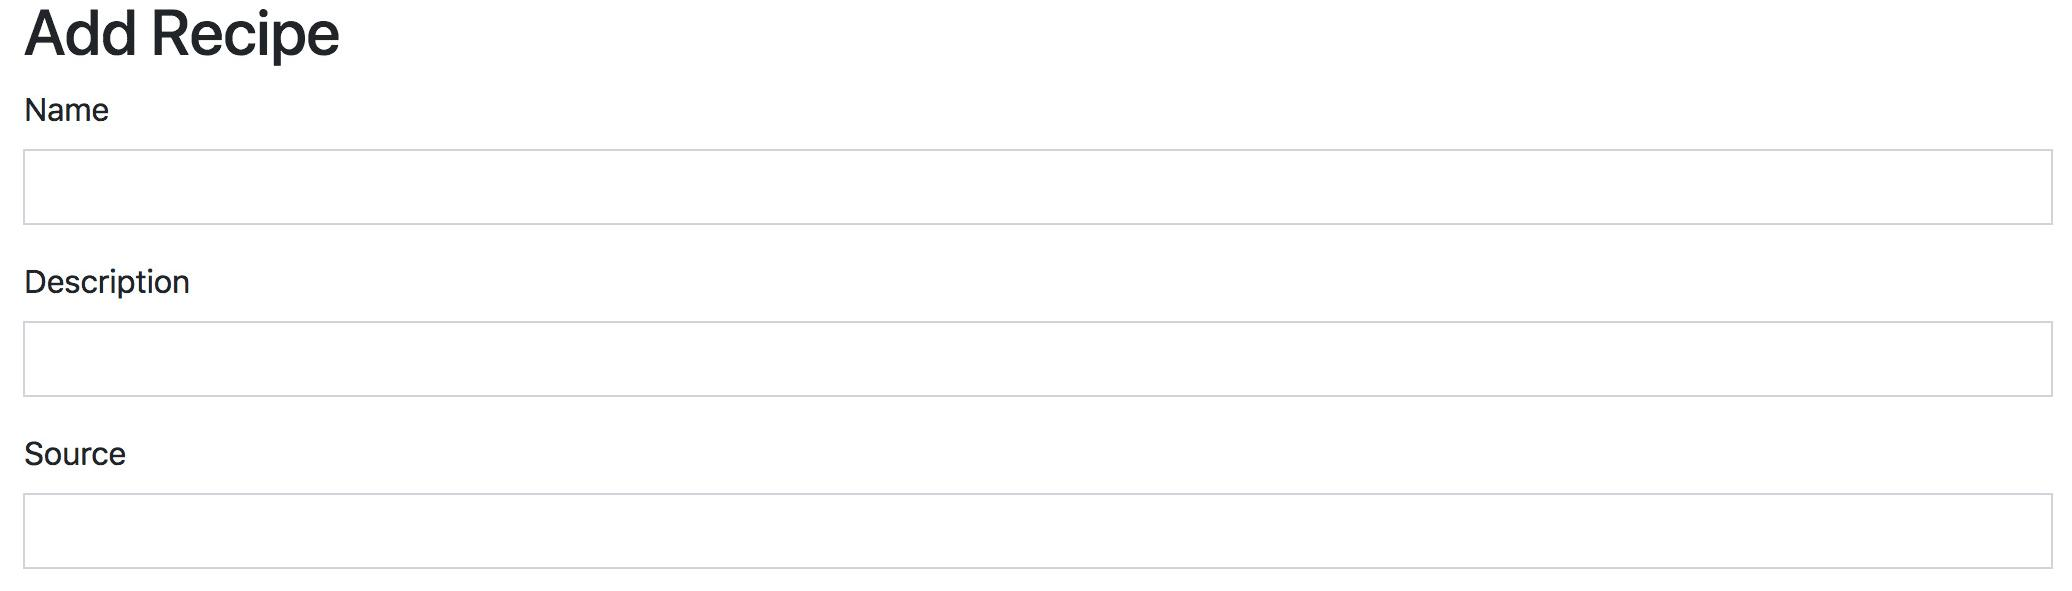field: (17, 316, 2055, 402), (18, 491, 2059, 572), (17, 147, 2055, 227)
field_with_label: (12, 268, 2064, 409), (12, 440, 2063, 579), (13, 97, 2063, 233)
